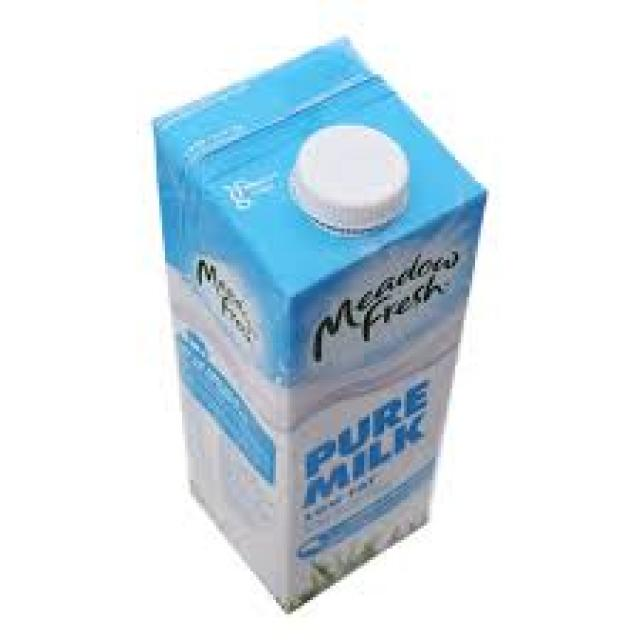non_white_jug: (145, 26, 498, 628)
